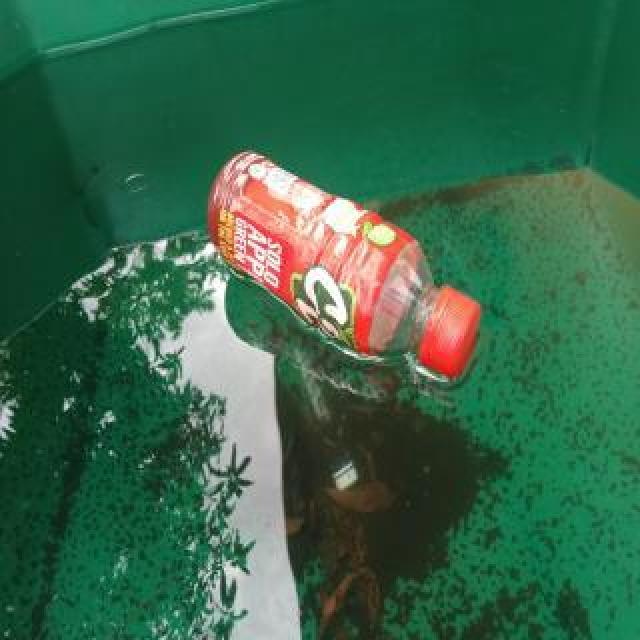bottle: (205, 144, 483, 386)
